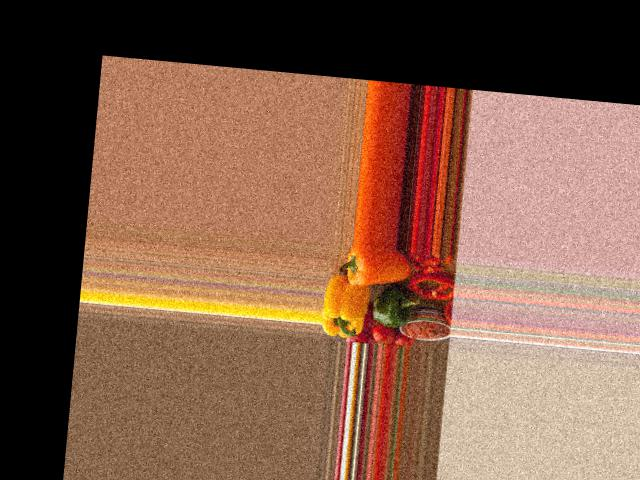bell_pepper: (321, 284, 371, 338)
